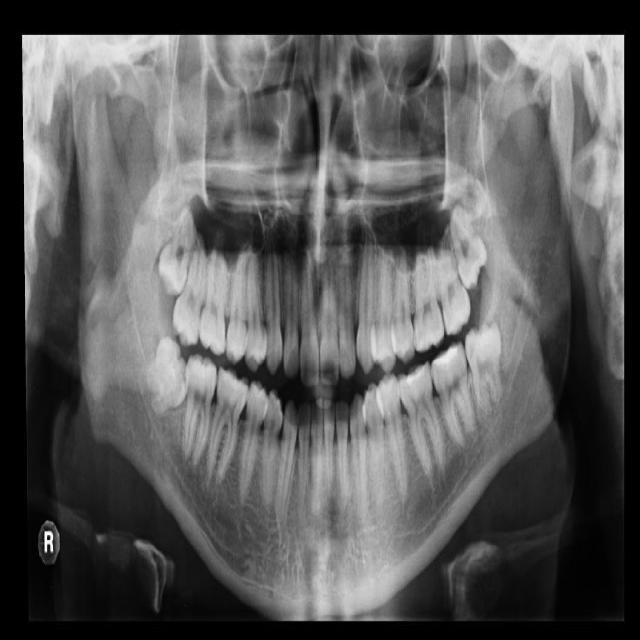3M ESPE Implant: (154, 204, 198, 297)
52: (416, 335, 478, 396), (390, 359, 444, 411)
73: (596, 574, 598, 590)
BioHorizons Implant: (431, 232, 474, 336)
BioLife Implant: (442, 197, 495, 293)
Biomet 3i Implant: (464, 321, 504, 415)
Blue Sky Bio Implant: (426, 339, 479, 450)
Caries: (168, 234, 213, 348)
Implant: (181, 353, 218, 464)
Keystone Dental Implant: (140, 333, 197, 416)
